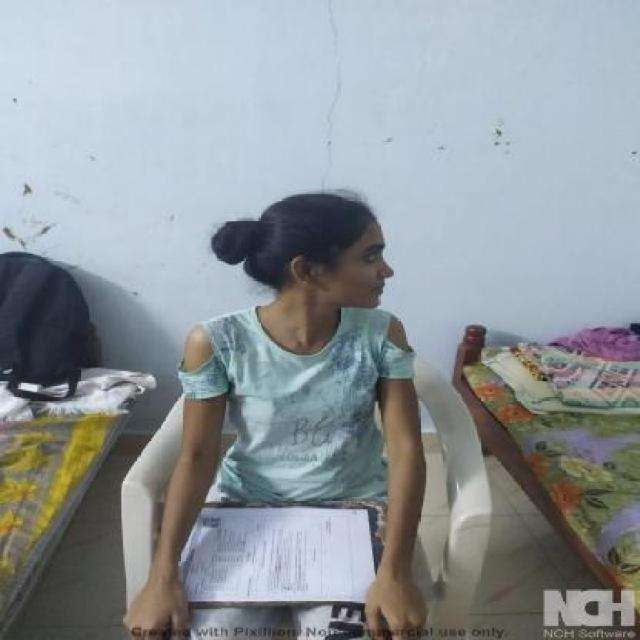cheating: (169, 180, 423, 420)
